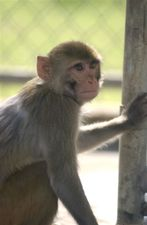monkey: (7, 10, 128, 198)
